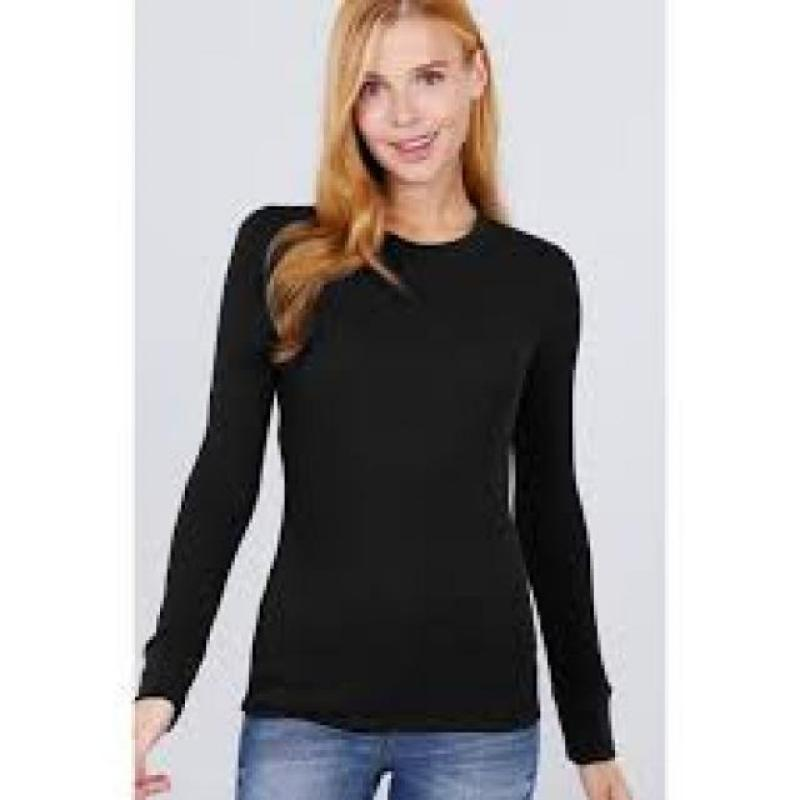long sleeve shirt: (133, 202, 617, 763)
trousers: (229, 709, 543, 800)
